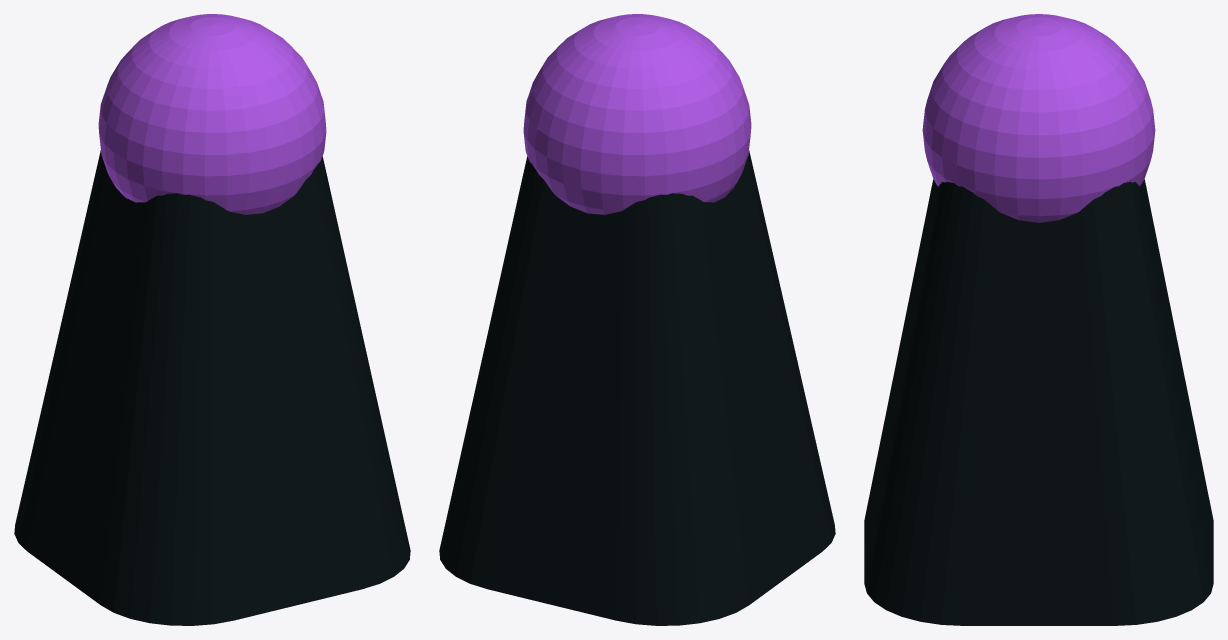
File: pion4.glb
The picture shows the model from 3 angles, left to right: view 1: azimuth 30°, elevation 25°; view 2: azimuth 150°, elevation 25°; view 3: azimuth 270°, elevation 25°; orthographic projection.
Visible parts, largest first — view 1: Sphere.002; view 2: Sphere.002; view 3: Sphere.002.
Boxes of the visible parts, x1,y1,x2,y2 form: Sphere.002: (14,14,410,625); Sphere.002: (439,14,835,625); Sphere.002: (864,14,1213,625).
Bounding box in the file's own units: 0.375 × 0.625 × 0.375.
